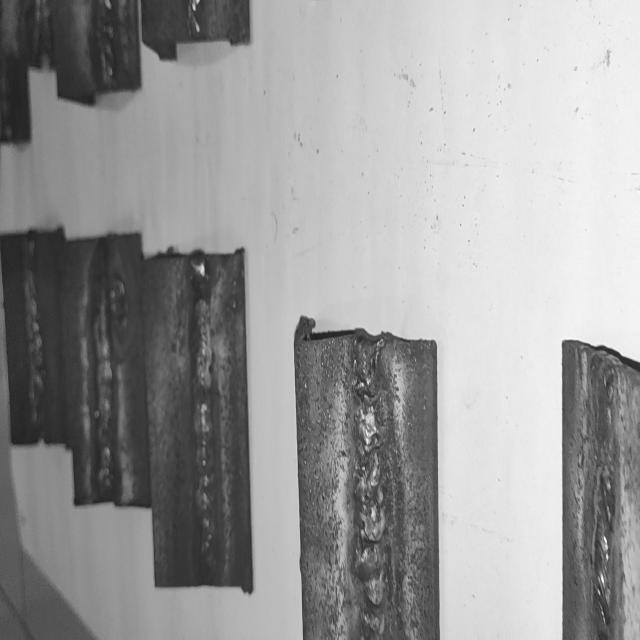Defect: (348, 352, 398, 637), (90, 266, 134, 346), (92, 0, 116, 81)
Welding Line: (3, 234, 68, 441), (354, 343, 391, 640), (190, 262, 214, 578), (592, 363, 613, 639), (21, 248, 43, 432), (96, 249, 110, 494)
Workpiece: (290, 316, 444, 640), (146, 250, 252, 590), (61, 234, 152, 506), (560, 333, 640, 640)
